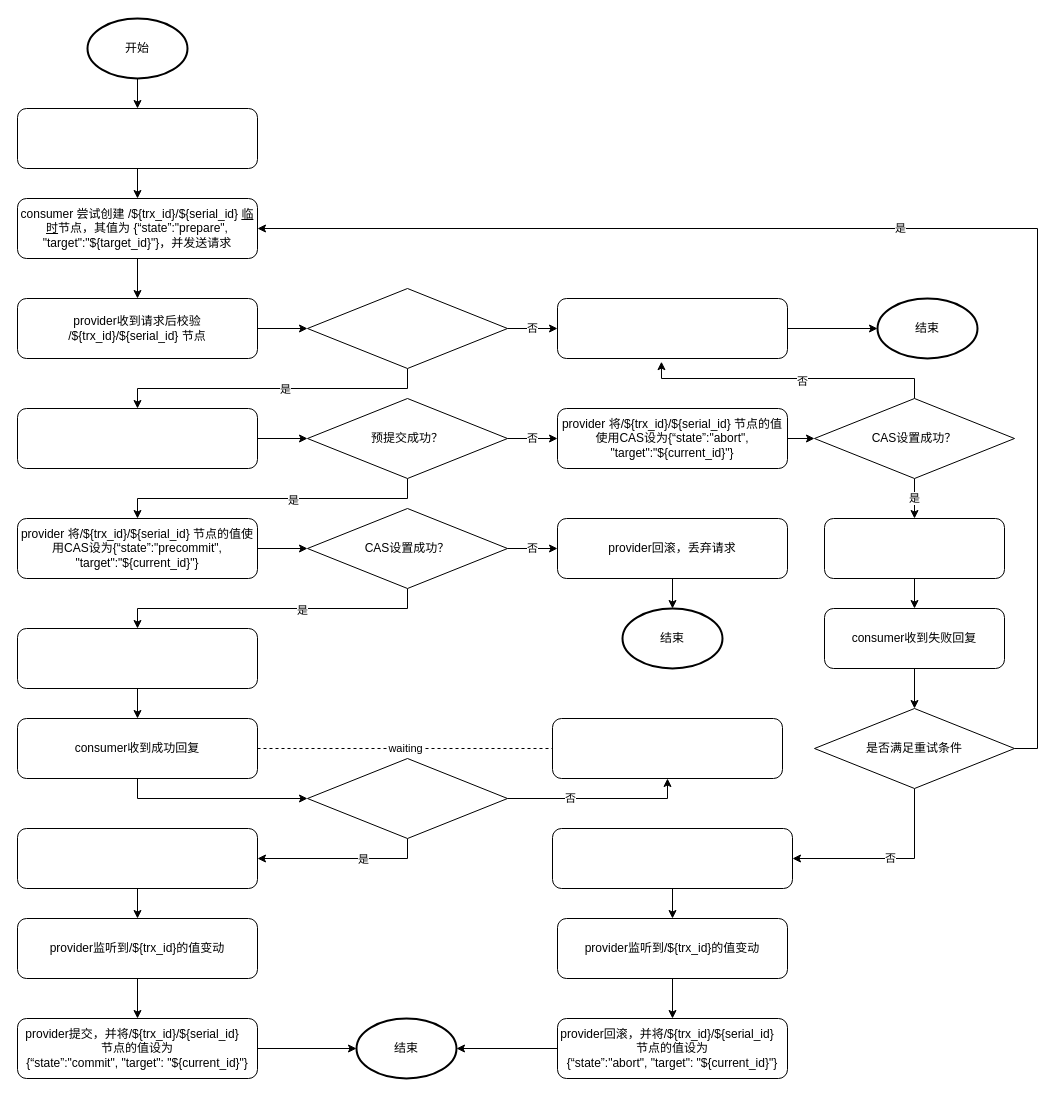
The diagram is 1063 pixels wide and 1096 high, and some of its shapes have lost their labels. Here are the shapes that lost their labels. From the top down, the centre of each, then its label:
[137,138]: consumer 创建 /${trx_id} 节点，其值为 {“state”:"prepare", "target": "${current_id}"}
[407,328]: 节点存在且值为 {“state”:"prepare", "target":"${ current_id }"}
[672,328]: 丢弃请求
[137,438]: provider进行预提交
[914,548]: provider发送失败回复
[137,658]: 关注/${trx_id}节点变动，并发送成功回复
[667,748]: consumer commit请求被阻塞
[407,798]: 检查该事务其他请求是否都已经收到成功回复
[137,858]: consumer修改/${trx_id}的值为{“state”:"commit", "target": "${current_id}"}
[672,858]: consumer修改/${trx_id}的值为{“state”:"abort", "target": "${current_id}"}
